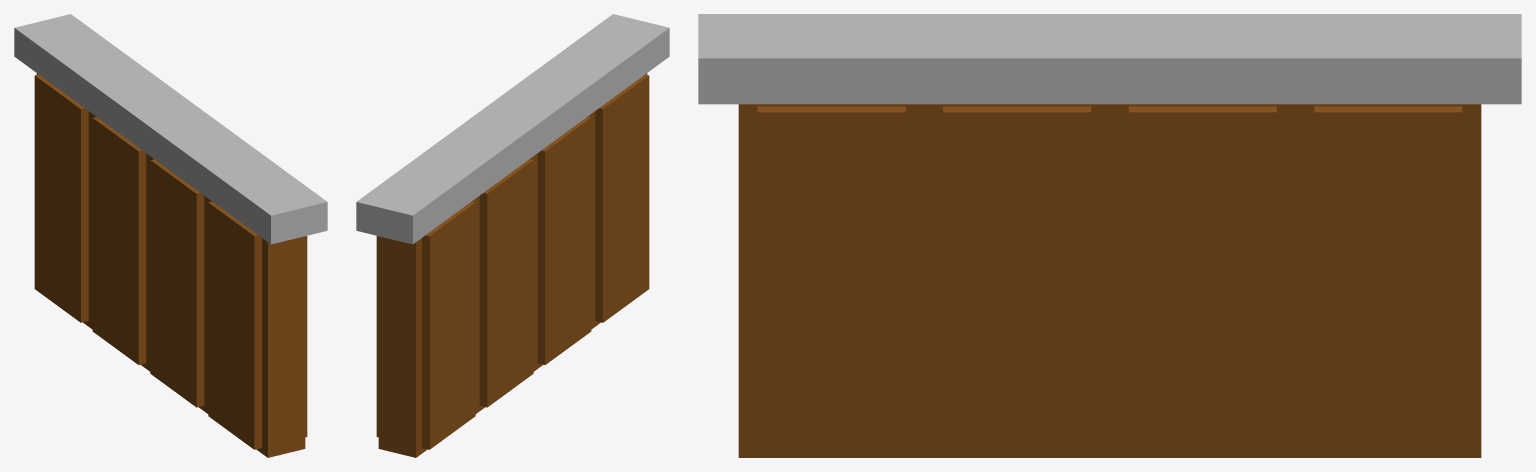
Rendered from wall_segment2.glb.
3 views of the same model, side by side, from view 1: azimuth 30°, elevation 25°; view 2: azimuth 150°, elevation 25°; view 3: azimuth 270°, elevation 25° (orthographic). The views are drawn at different scales.
Parts seen in each view (by area): view 1: Cube.001; view 2: Cube.001; view 3: Cube.001.
Part boxes in pixels (x1,y1,x2,y2): Cube.001: [14, 14, 327, 457]; Cube.001: [356, 14, 669, 457]; Cube.001: [698, 14, 1521, 457].
Size of the model in its own units: 0.2823 by 1.21 by 2.22.
